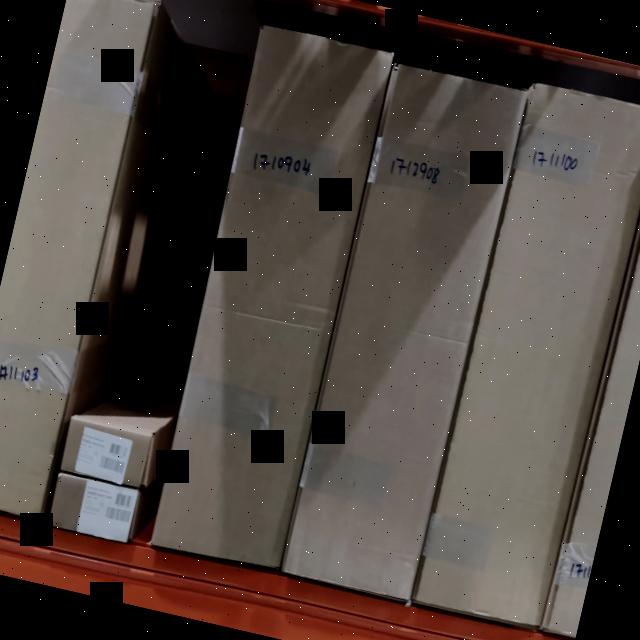box: (278, 62, 530, 602), (148, 29, 394, 565), (416, 81, 640, 628), (48, 469, 144, 542), (59, 413, 152, 487)
